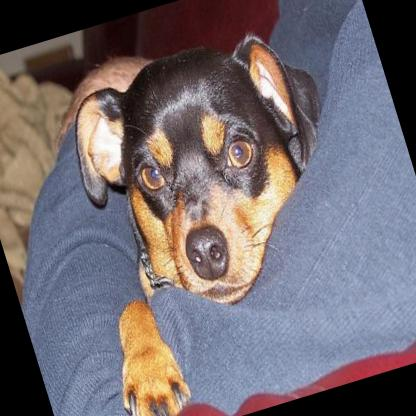miniature_pinscher: (30, 18, 399, 416)
